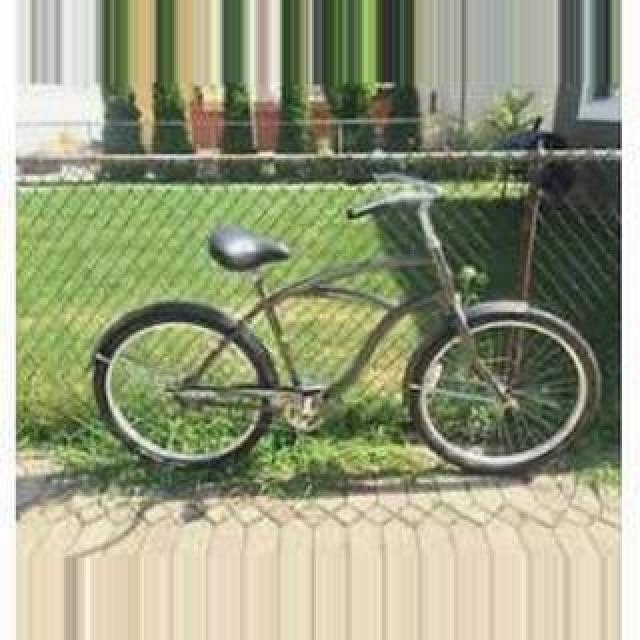Person: (88, 163, 600, 491)
